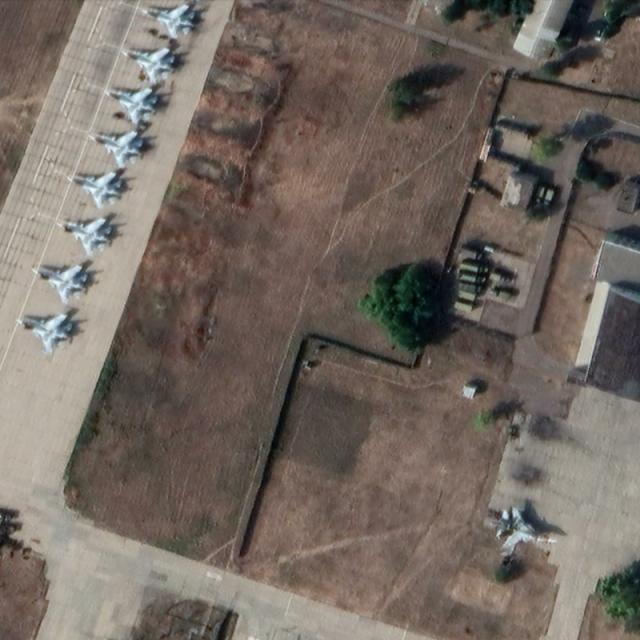fighter jet: (15, 300, 74, 348), (66, 161, 128, 206), (123, 40, 185, 82), (56, 209, 112, 253), (87, 119, 144, 162), (32, 259, 90, 295), (142, 0, 200, 36), (107, 82, 159, 117)
